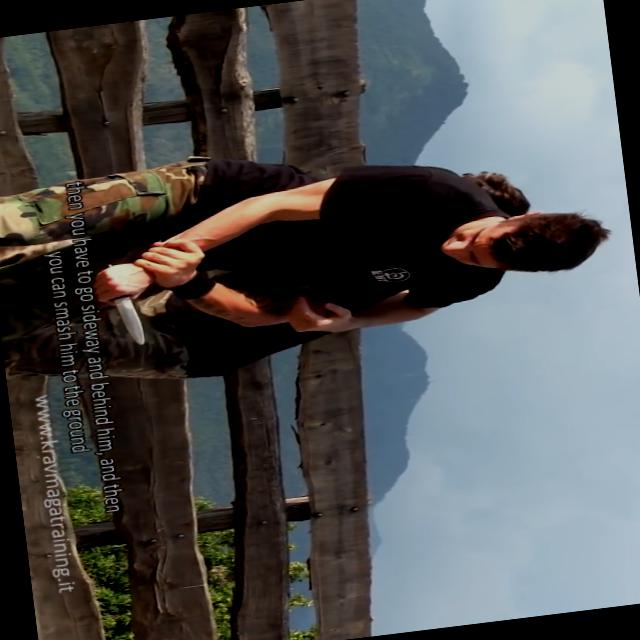knife: (84, 254, 164, 356)
